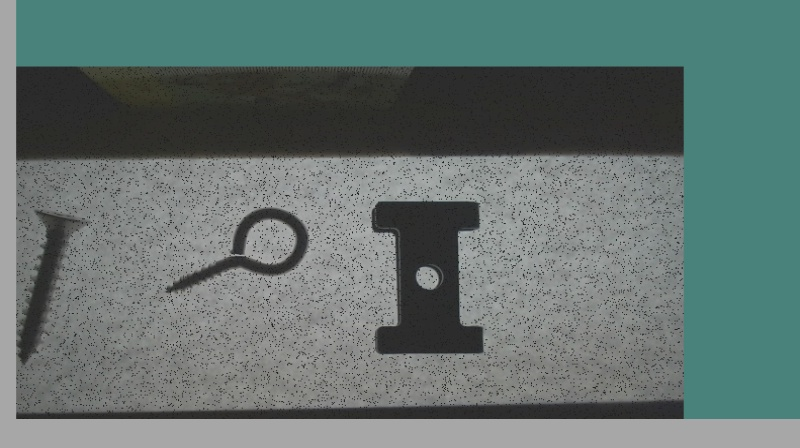O001: (163, 205, 312, 298)
O002: (370, 197, 489, 355)
S001: (12, 207, 96, 367)
